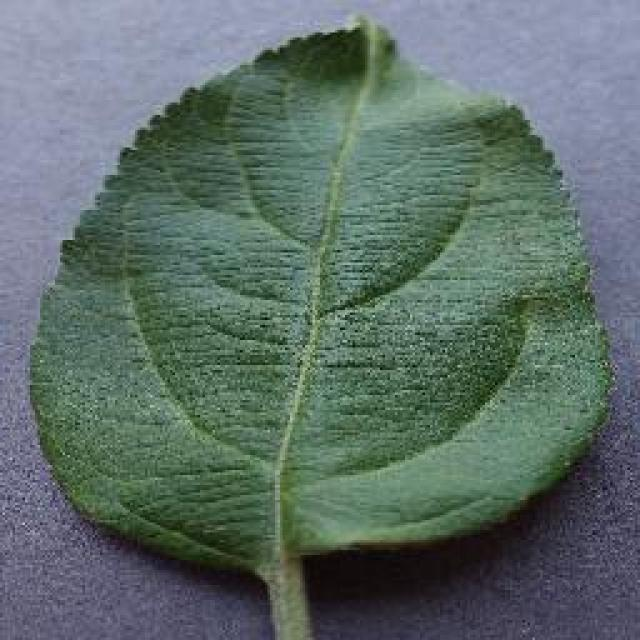apple healthy: (25, 10, 617, 638)
